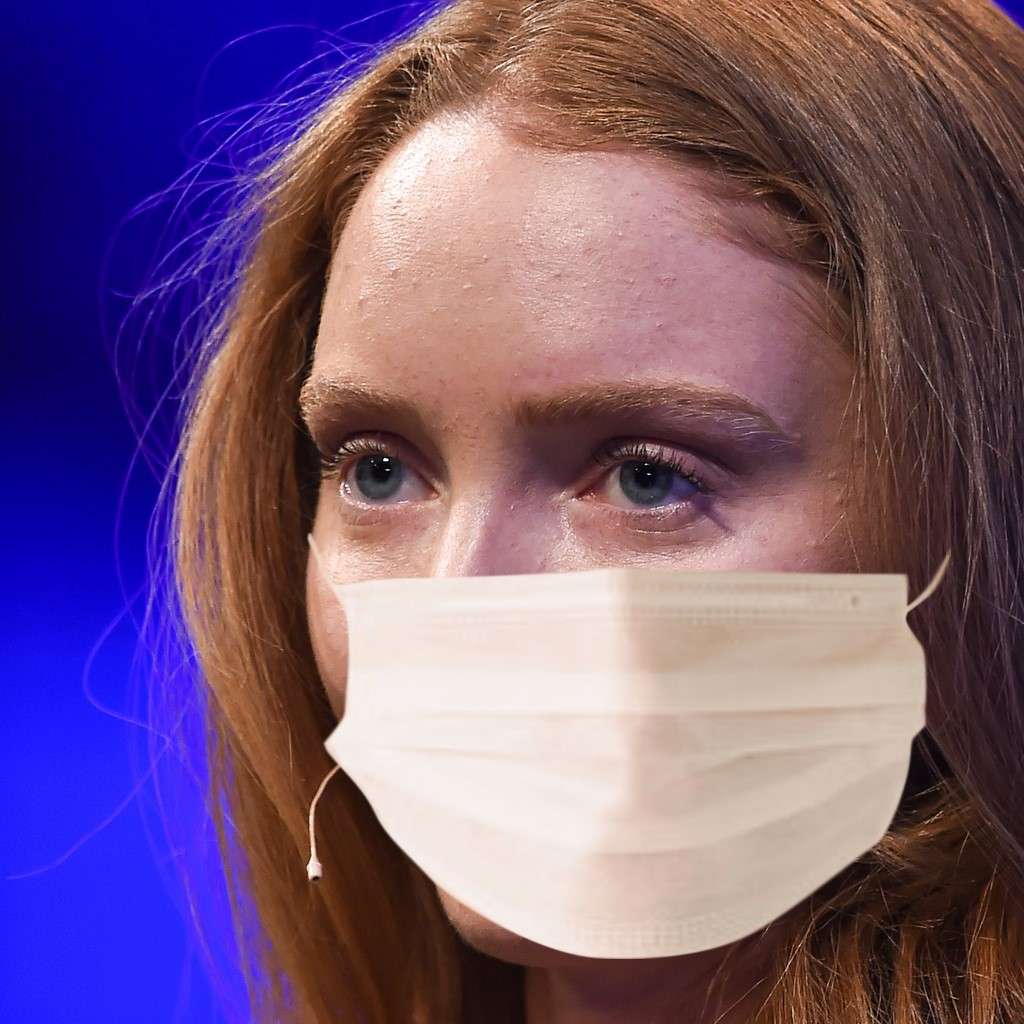con_mascara: (303, 111, 903, 957)
